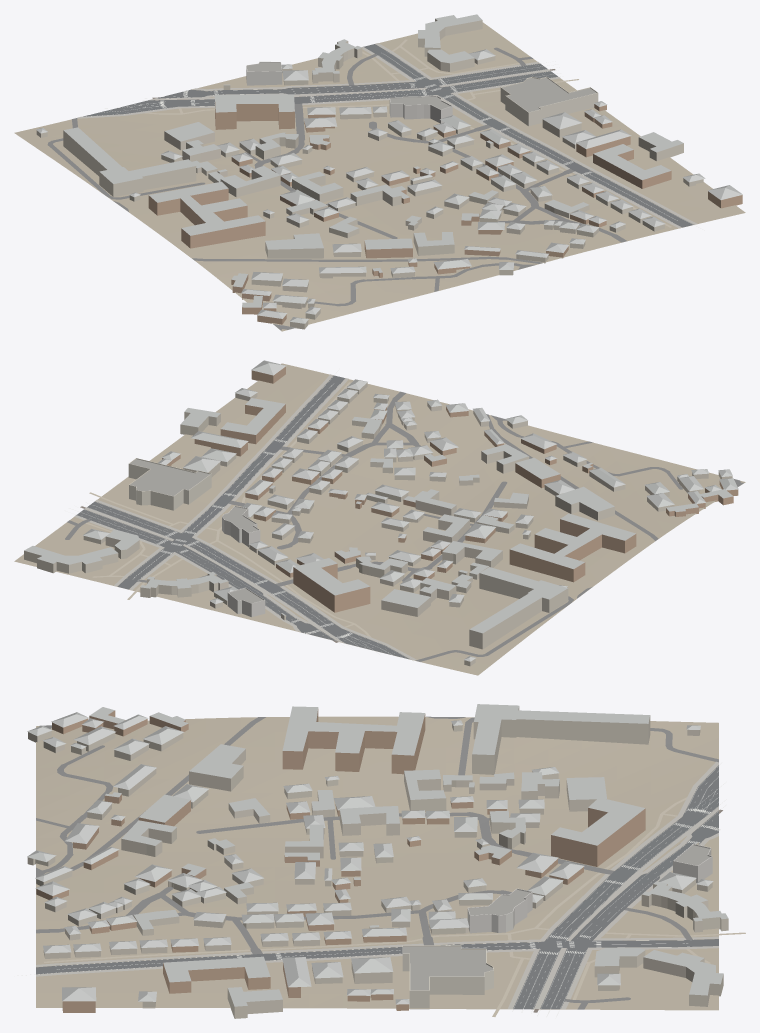
Rendered from bolak_-2_-4.glb.
3 views of the same model, one above another, from view 1: azimuth 30°, elevation 25°; view 2: azimuth 150°, elevation 25°; view 3: azimuth 270°, elevation 25° (orthographic). The views are drawn at different scales.
Visible parts, largest first — view 1: Yer_Tuproq-col, Tom_Shifer, Devor_Suvoq-col, Devor_Gisht-col, Yol_Asfalt-col, Yol_Mahalla-col, Trotuar, Tom_Tekis, Devor_Dokon-col, Devor_Jamoat-col, Yol_Chiziq, Yol_Piyoda; view 2: Yer_Tuproq-col, Tom_Shifer, Devor_Suvoq-col, Devor_Gisht-col, Yol_Asfalt-col, Trotuar, Yol_Mahalla-col, Tom_Tekis, Devor_Jamoat-col, Devor_Dokon-col, Yol_Piyoda, Yol_Chiziq; view 3: Yer_Tuproq-col, Tom_Shifer, Devor_Suvoq-col, Yol_Asfalt-col, Devor_Gisht-col, Yol_Mahalla-col, Trotuar, Tom_Tekis, Yol_Piyoda, Yol_Chiziq, Devor_Dokon-col, Devor_Jamoat-col.
Part boxes in pixels (<box>): Yer_Tuproq-col: <box>14,22,745,331</box>; Tom_Shifer: <box>36,14,742,323</box>; Devor_Suvoq-col: <box>36,19,703,329</box>; Devor_Gisht-col: <box>148,102,742,324</box>; Yol_Asfalt-col: <box>83,44,693,227</box>; Yol_Mahalla-col: <box>47,47,626,330</box>; Trotuar: <box>77,43,697,228</box>; Tom_Tekis: <box>247,62,596,112</box>; Devor_Dokon-col: <box>246,61,452,123</box>; Devor_Jamoat-col: <box>500,76,598,126</box>; Yol_Chiziq: <box>75,53,704,230</box>; Yol_Piyoda: <box>145,39,671,227</box>; Yer_Tuproq-col: <box>14,363,745,675</box>; Tom_Shifer: <box>24,360,738,661</box>; Devor_Suvoq-col: <box>24,382,732,666</box>; Devor_Gisht-col: <box>162,366,738,612</box>; Yol_Asfalt-col: <box>76,375,410,659</box>; Trotuar: <box>74,374,416,660</box>; Yol_Mahalla-col: <box>65,391,744,661</box>; Tom_Tekis: <box>130,459,263,603</box>; Devor_Jamoat-col: <box>128,458,211,510</box>; Devor_Dokon-col: <box>222,506,265,617</box>; Yol_Piyoda: <box>85,382,378,642</box>; Yol_Chiziq: <box>69,370,413,661</box>; Yer_Tuproq-col: <box>36,716,718,1010</box>; Tom_Shifer: <box>27,704,728,1006</box>; Devor_Suvoq-col: <box>27,706,728,1018</box>; Yol_Asfalt-col: <box>36,765,718,1009</box>; Devor_Gisht-col: <box>36,709,645,1012</box>; Yol_Mahalla-col: <box>36,716,718,1009</box>; Trotuar: <box>36,761,718,1009</box>; Tom_Tekis: <box>403,845,710,990</box>; Yol_Piyoda: <box>44,797,745,1016</box>; Yol_Chiziq: <box>17,763,726,1016</box>; Devor_Dokon-col: <box>467,844,712,933</box>; Devor_Jamoat-col: <box>402,945,493,1009</box>.
Size of what is drawn, in the model's own units: 426 by 16.77 by 429.
